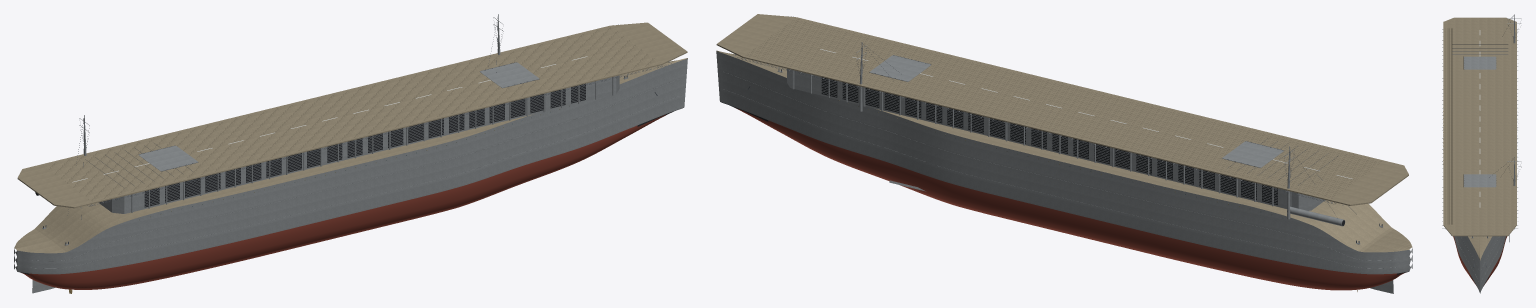
Rendered from argus.glb.
The picture shows the model from 3 angles, left to right: view 1: azimuth 30°, elevation 25°; view 2: azimuth 150°, elevation 25°; view 3: azimuth 270°, elevation 25°; orthographic projection. The views are drawn at different scales.
Visible parts, largest first — view 1: Argus; view 2: Argus; view 3: Argus.
Part boxes in pixels (box(x1,y1,x2,y2)): Argus: box(14, 14, 687, 293); Argus: box(716, 14, 1412, 293); Argus: box(1442, 14, 1521, 293).
Size of the model in its own units: 172 by 35.28 by 25.25.
8 materials, 2 textured.
